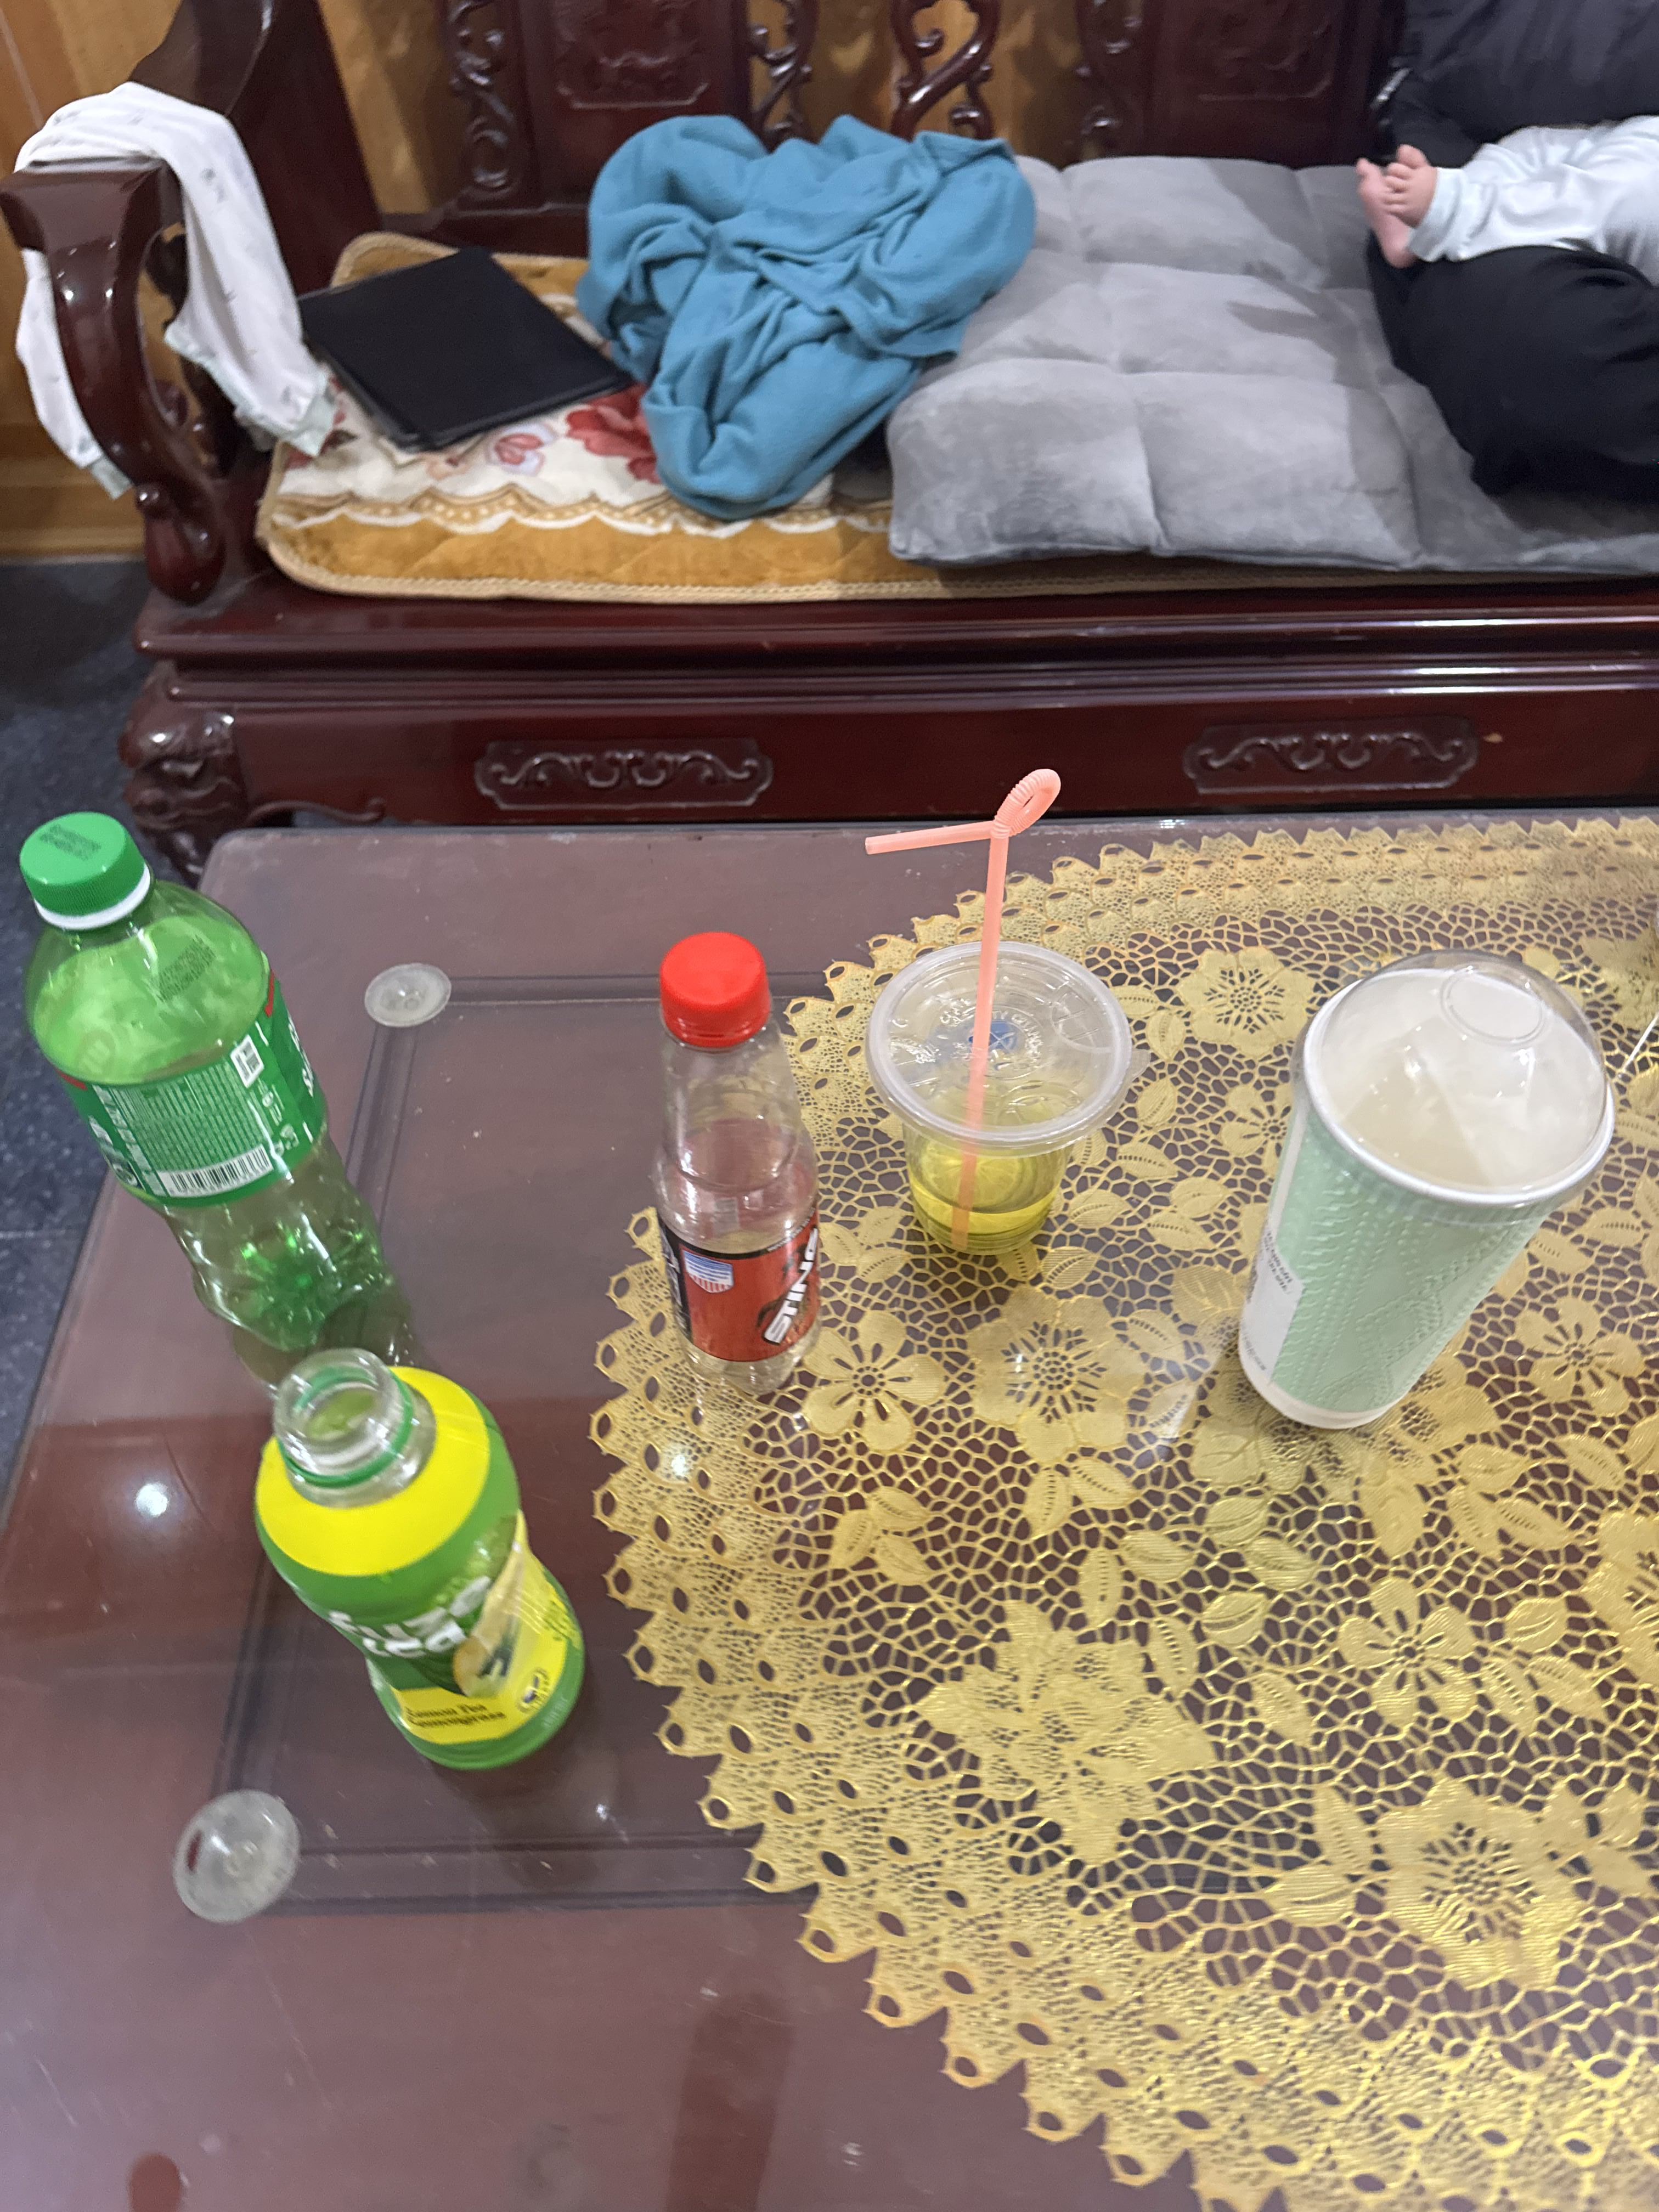bottle: (183, 1289, 725, 1846), (2, 719, 436, 1353), (612, 902, 878, 1480)
cup: (1199, 859, 1635, 1503), (831, 867, 1129, 1315)
